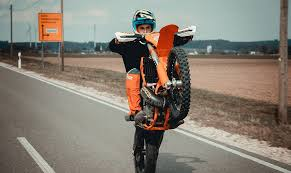moto: (135, 34, 193, 170)
person: (130, 11, 157, 52)
